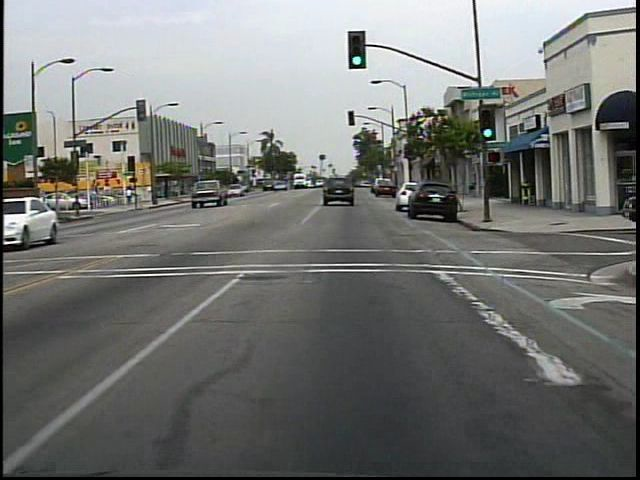person: (126, 182, 135, 207)
